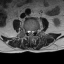CCS_stenosis: (30, 28, 32, 36)
LFS_normal: (34, 27, 36, 34)
LLS_normal: (32, 28, 34, 35)
RFS_normal: (25, 28, 27, 34)
RLS_normal: (27, 28, 30, 35)
